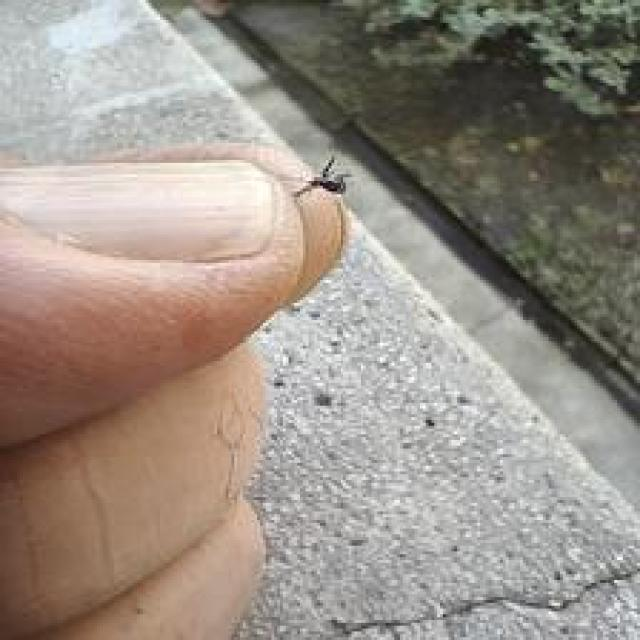Aedes albopictus: (292, 153, 352, 201)
